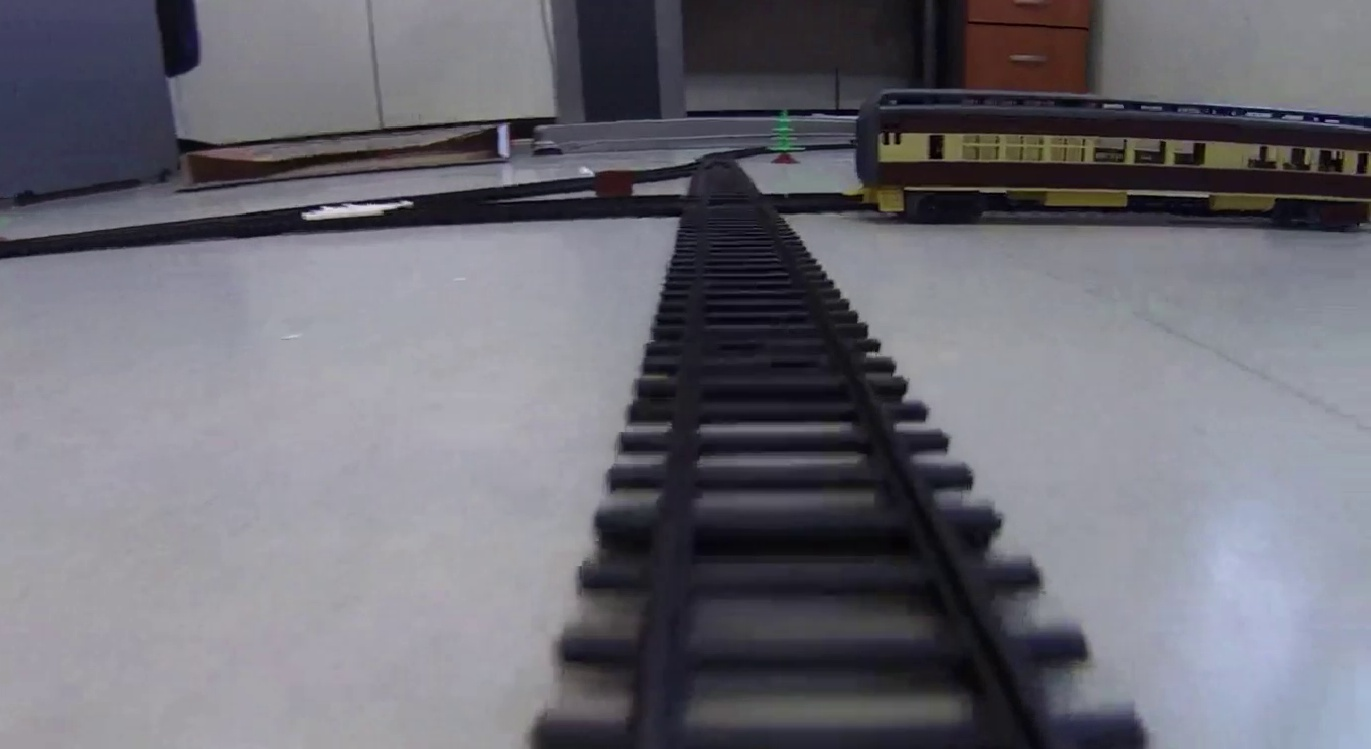box: (592, 169, 636, 196)
tree: (768, 107, 805, 166)
